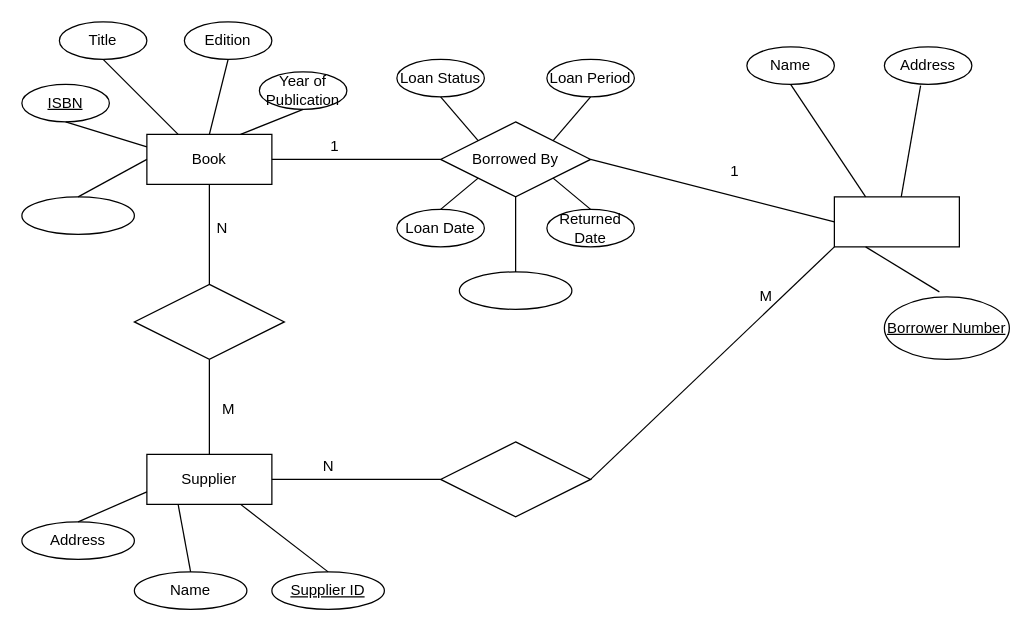
Some shapes in this 1031 by 631 pixel diagram are drawn without their labels. Each missing label, with the centre of its shape:
Copy Number: the point at 77,215
Individual: the point at 896,221
Loan Number: the point at 515,290
Registered at: the point at 515,479
Supplied by: the point at 208,321
